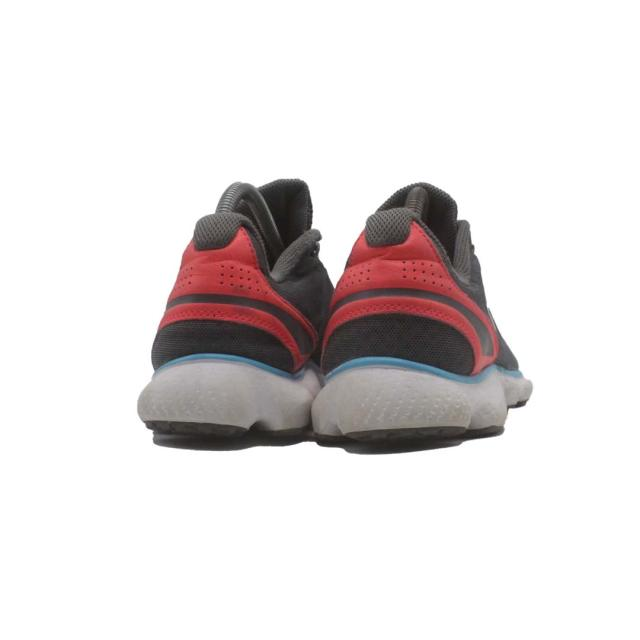heel: (323, 210, 493, 368), (147, 219, 312, 373)
midsole: (308, 363, 528, 443), (133, 357, 311, 431)
